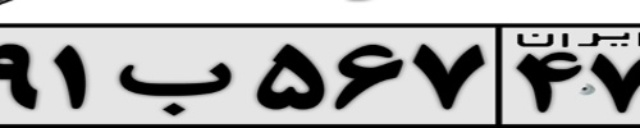1: (48, 44, 90, 108)
4: (516, 49, 585, 113)
5: (255, 43, 326, 111)
6: (332, 43, 406, 111)
7: (411, 42, 485, 110), (589, 48, 637, 114)
9: (1, 42, 38, 109)
be: (114, 62, 231, 116)
